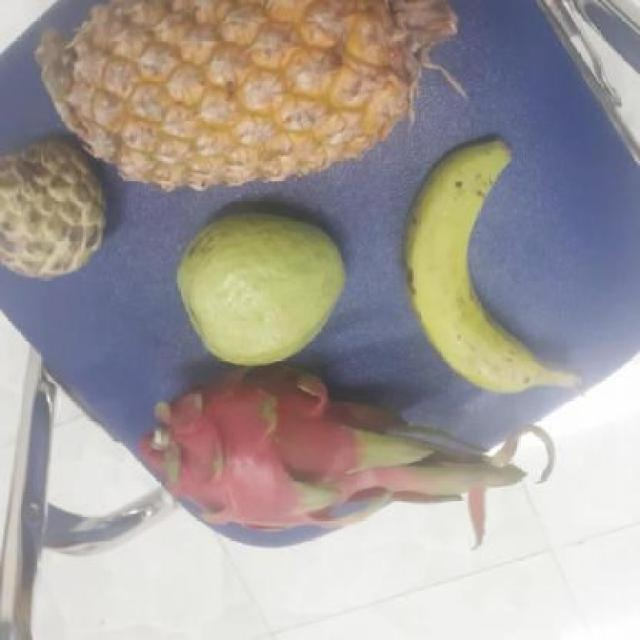banana: (406, 147, 562, 396)
dragon fruit: (159, 363, 386, 535)
guava: (176, 208, 356, 359)
pineapple: (55, 1, 450, 185)
sugar apple: (0, 136, 118, 276)
